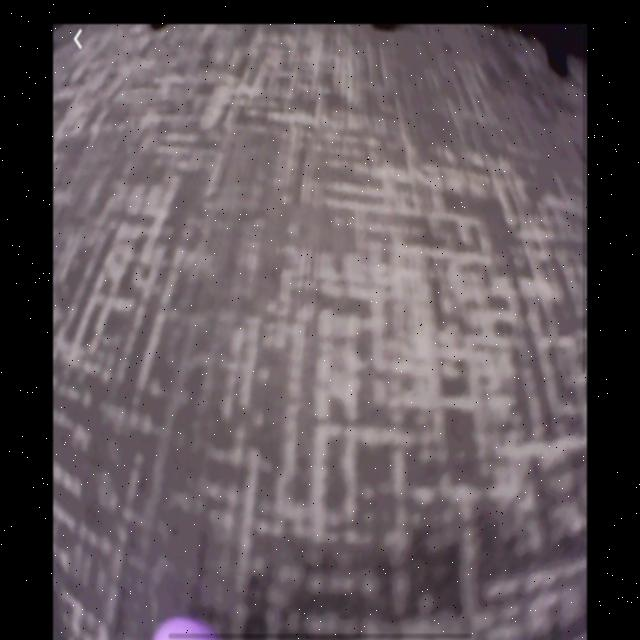ball: (155, 610, 217, 640)
